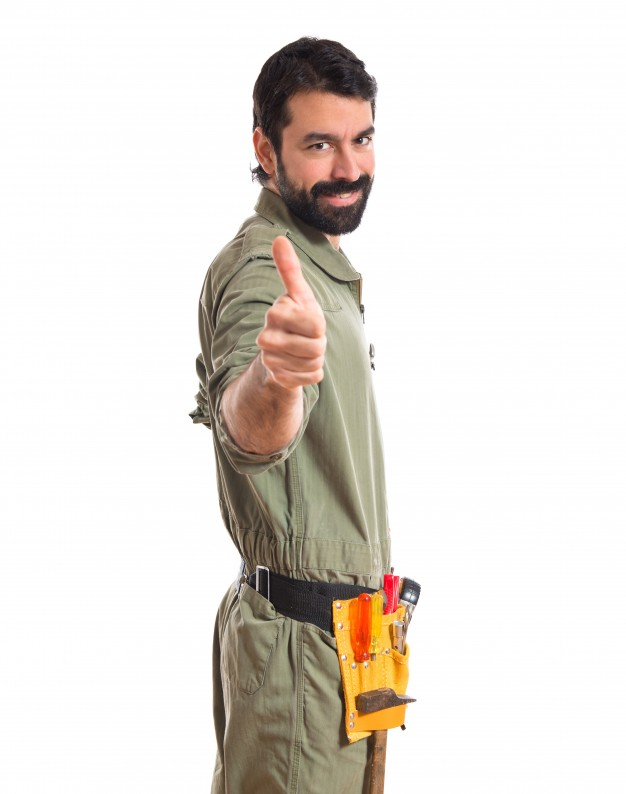thumbsup: (256, 236, 326, 388)
